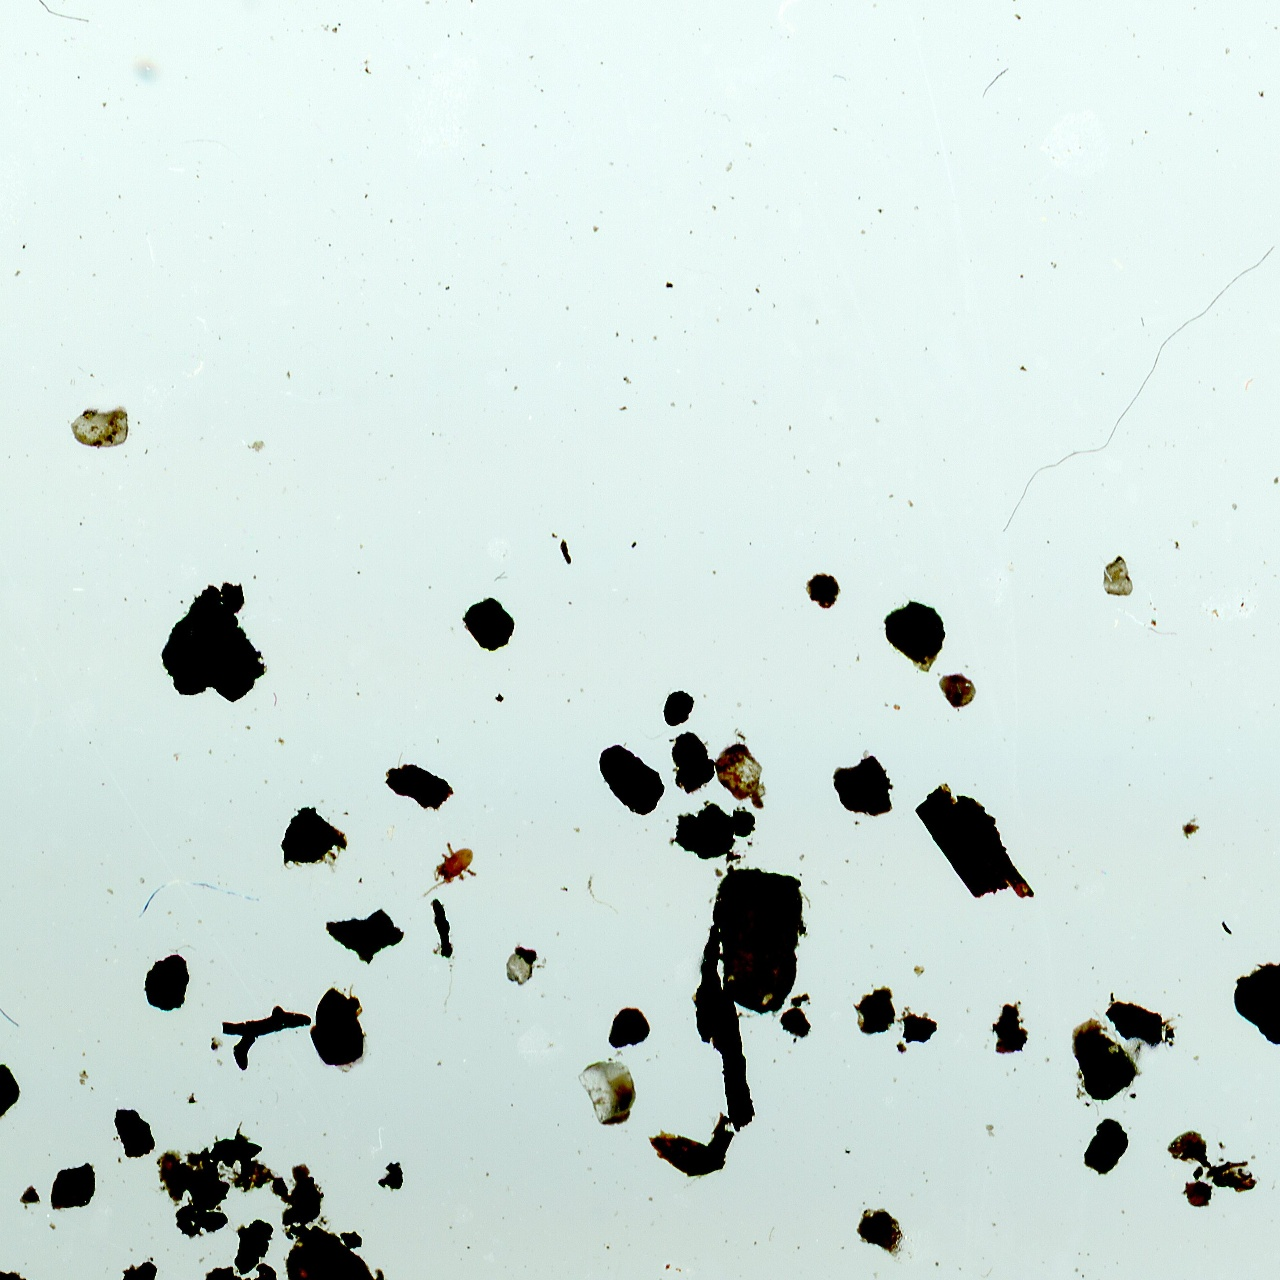arthropod: (417, 839, 479, 898)
